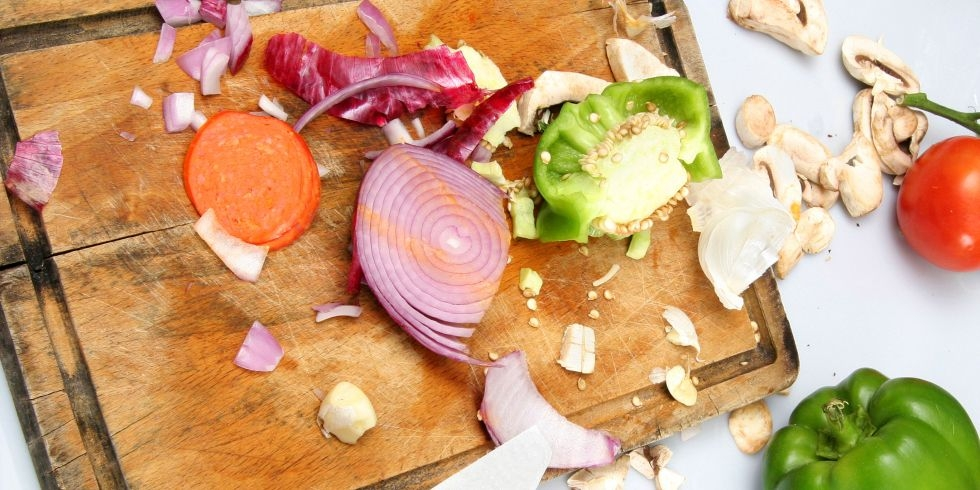kitchen_waste: (343, 134, 535, 371), (512, 70, 731, 253), (247, 23, 516, 144), (751, 361, 980, 490), (177, 103, 329, 262), (466, 345, 631, 475), (819, 95, 932, 224), (683, 200, 808, 314), (884, 126, 980, 273), (3, 123, 86, 211), (833, 31, 932, 102), (723, 1, 836, 58), (311, 376, 384, 449), (129, 76, 202, 140), (166, 31, 232, 100), (228, 317, 292, 380), (721, 88, 786, 150), (219, 1, 265, 68)
